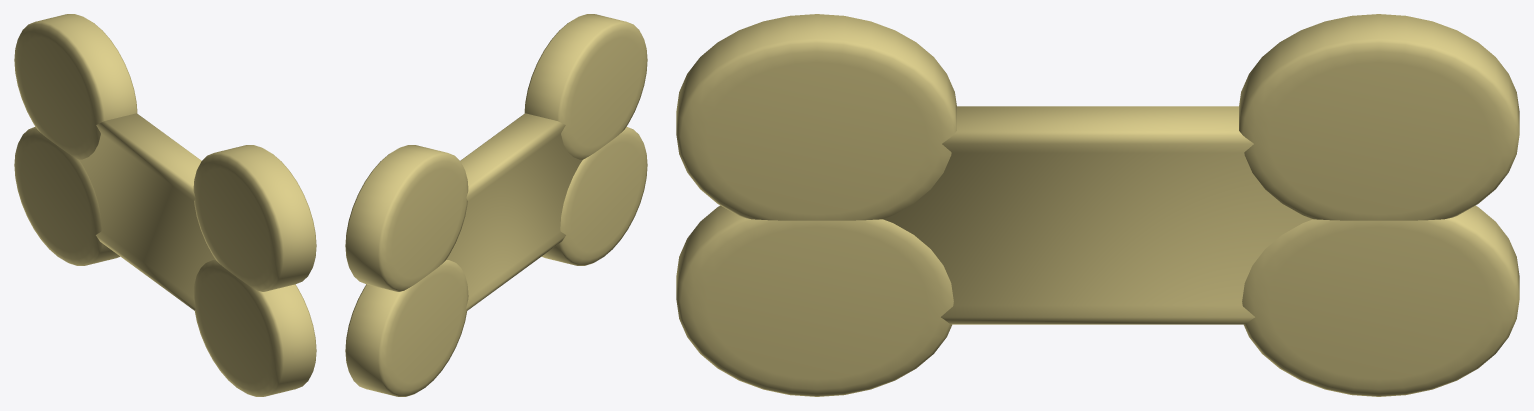
Rendered from Kość.obj.
3 views of the same model, side by side, from view 1: azimuth 30°, elevation 25°; view 2: azimuth 150°, elevation 25°; view 3: azimuth 270°, elevation 25° (orthographic). The views are drawn at different scales.
Parts seen in each view (by area): view 1: Cube_Cube.001, Cylinder.003_Cylinder.004, Cylinder_Cylinder.001, Cylinder.002_Cylinder.003, Cylinder.001_Cylinder.002; view 2: Cube_Cube.001, Cylinder_Cylinder.001, Cylinder.003_Cylinder.004, Cylinder.001_Cylinder.002, Cylinder.002_Cylinder.003; view 3: Cube_Cube.001, Cylinder_Cylinder.001, Cylinder.003_Cylinder.004, Cylinder.001_Cylinder.002, Cylinder.002_Cylinder.003.
Boxes of the visible parts, left/top/right/bottom form: Cube_Cube.001: left=79, top=113, right=215, bottom=310; Cylinder.003_Cylinder.004: left=193, top=145, right=316, bottom=291; Cylinder_Cylinder.001: left=14, top=14, right=137, bottom=159; Cylinder.002_Cylinder.003: left=193, top=260, right=316, bottom=396; Cylinder.001_Cylinder.002: left=14, top=126, right=119, bottom=265; Cube_Cube.001: left=446, top=113, right=582, bottom=310; Cylinder_Cylinder.001: left=345, top=145, right=468, bottom=291; Cylinder.003_Cylinder.004: left=524, top=14, right=647, bottom=159; Cylinder.001_Cylinder.002: left=345, top=260, right=468, bottom=396; Cylinder.002_Cylinder.003: left=542, top=126, right=647, bottom=265; Cube_Cube.001: left=883, top=106, right=1312, bottom=324; Cylinder_Cylinder.001: left=1239, top=14, right=1519, bottom=220; Cylinder.003_Cylinder.004: left=676, top=14, right=956, bottom=220; Cylinder.001_Cylinder.002: left=1242, top=205, right=1519, bottom=396; Cylinder.002_Cylinder.003: left=676, top=205, right=953, bottom=396.
Size of the model in its own units: 0.686 by 3.7 by 7.88.
